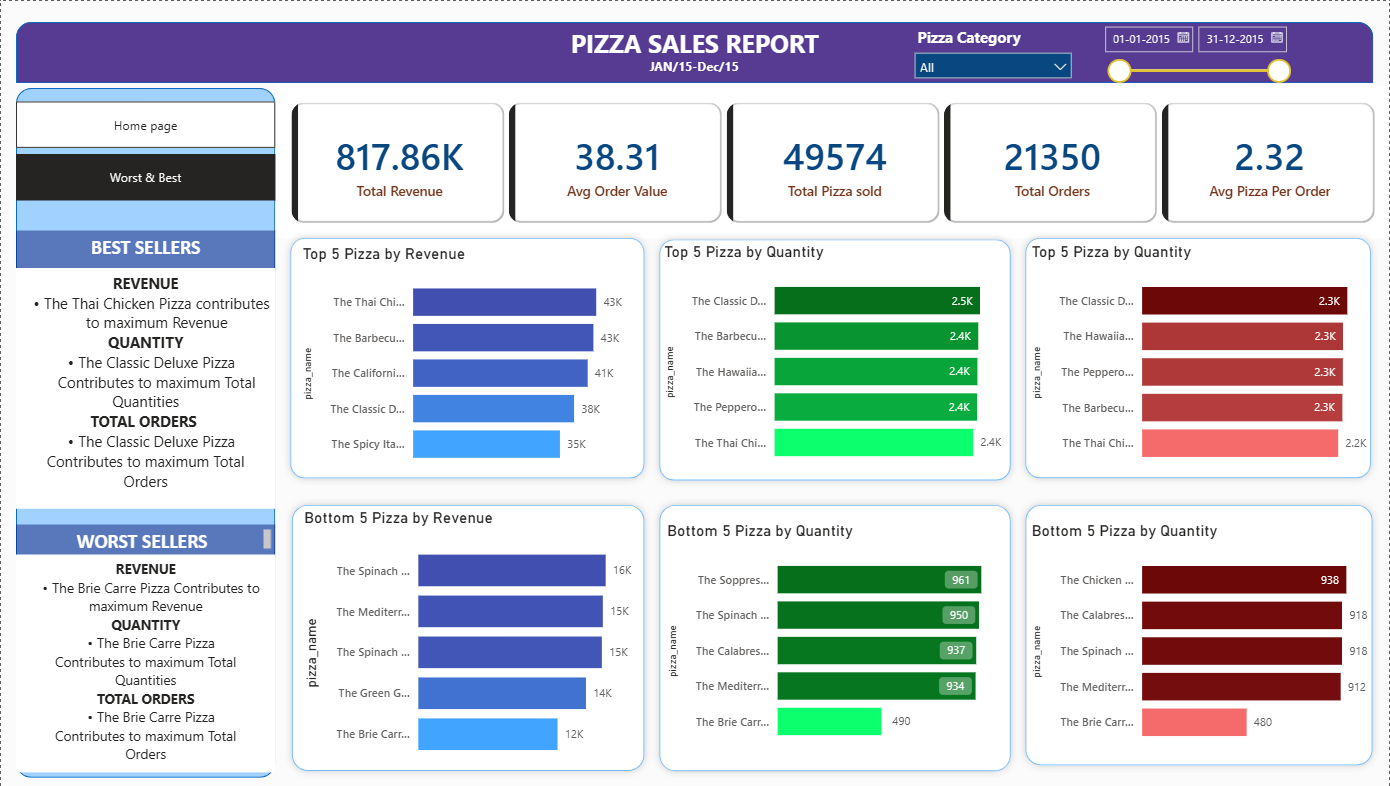

What the dashboard file says about the page in this screenshot:
{"tool":"powerbi","page":{"name":"Worst & Best","canvas":[1500,850],"ordinal":1},"visuals":[{"type":"cardVisual","fields":{"Data":["pizza_sales.total_revenue","pizza_sales.average_order_value","pizza_sales.total_pizza_sold","pizza_sales.total_orders","pizza_sales.avg_pizza_per_order"]},"box":[296,92,1204,164],"z":0},{"type":"shape","box":[16,22,1466,66],"z":1000},{"type":"textbox","box":[604,22,290,48],"z":2000},{"type":"textbox","box":[695.8,55,107.5,35.8],"z":3000},{"type":"shape","box":[305,248.3,398.3,275.8],"z":4000},{"type":"shape","box":[16.7,93.3,280,745],"z":14000},{"type":"textbox","box":[16.7,248.3,280,41.7],"z":15000},{"type":"textbox","box":[16.7,288.3,280,260],"z":16000},{"type":"textbox","box":[16.7,565,280,33.3],"z":17000},{"type":"textbox","box":[16.7,598.3,280,235],"z":18000},{"type":"slicer","fields":{"Values":["pizza_sales.pizza_category"]},"box":[976.9,22.7,189.6,64.8],"z":19000},{"type":"slicer","fields":{"Values":["pizza_sales.order_date"]},"box":[1179.4,17.8,222,74.5],"z":20000},{"type":"shape","box":[703.6,249.1,395.5,276.4],"z":20001},{"type":"shape","box":[1099.1,248.2,389.1,275.5],"z":20002},{"type":"shape","box":[306.7,536.7,396.7,303.3],"z":20003},{"type":"shape","box":[703.6,536.4,395.5,303.6],"z":20004},{"type":"shape","box":[1099.1,536.4,390.9,297.3],"z":20005},{"type":"barChart","title":"Top 5 Pizza by Revenue","fields":{"Category":["pizza_sales.pizza_name"],"Y":["pizza_sales.Total Revenue"]},"box":[321,262,375,252],"z":20006},{"type":"barChart","title":"Bottom 5 Pizza by Revenue","fields":{"Category":["pizza_sales.pizza_name"],"Y":["pizza_sales.Total Revenue"]},"box":[321.7,548.3,375,285],"z":20007},{"type":"barChart","title":"Top 5 Pizza by Quantity","fields":{"Category":["pizza_sales.pizza_name"],"Y":["pizza_sales.Total Pizza sold"]},"box":[710.9,260.9,374.5,251.8],"z":20008},{"type":"barChart","title":"Bottom 5 Pizza by Quantity","fields":{"Category":["pizza_sales.pizza_name"],"Y":["pizza_sales.Total Pizza sold"]},"box":[714.5,561.8,374.5,251.8],"z":20009},{"type":"barChart","title":"Top 5 Pizza by Quantity","fields":{"Category":["pizza_sales.pizza_name"],"Y":["pizza_sales.Total Orders"]},"box":[1108.2,260.9,375.5,252.7],"z":20010},{"type":"barChart","title":"Bottom 5 Pizza by Quantity","fields":{"Category":["pizza_sales.pizza_name"],"Y":["pizza_sales.Total Orders"]},"box":[1108.6,561.4,375.7,252.9],"z":20011},{"type":"pageNavigator","box":[16.7,108.3,280,50],"z":20012},{"type":"pageNavigator","box":[16.7,165,280,50],"z":20013}]}

Visuals, with their boxes in screenshot pixels (x1, y1, x2, y2), scaled from the page's 1500x850 canvas onto the 1390x786 screenshot:
cardVisual - pizza_sales.total_revenue x pizza_sales.average_order_value: 274, 85, 1389, 237
shape: 15, 20, 1373, 81
textbox: 560, 20, 828, 65
textbox: 645, 51, 744, 84
shape: 283, 230, 652, 485
shape: 15, 86, 275, 775
textbox: 15, 230, 275, 268
textbox: 15, 267, 275, 507
textbox: 15, 522, 275, 553
textbox: 15, 553, 275, 771
slicer - pizza_sales.pizza_category: 905, 21, 1081, 81
slicer - pizza_sales.order_date: 1093, 16, 1299, 85
shape: 652, 230, 1018, 486
shape: 1018, 230, 1379, 484
shape: 284, 496, 652, 777
shape: 652, 496, 1018, 777
shape: 1018, 496, 1381, 771
"Top 5 Pizza by Revenue" barChart: 297, 242, 645, 475
"Bottom 5 Pizza by Revenue" barChart: 298, 507, 646, 771
"Top 5 Pizza by Quantity" barChart: 659, 241, 1006, 474
"Bottom 5 Pizza by Quantity" barChart: 662, 519, 1009, 752
"Top 5 Pizza by Quantity" barChart: 1027, 241, 1375, 475
"Bottom 5 Pizza by Quantity" barChart: 1027, 519, 1375, 753
pageNavigator: 15, 100, 275, 146
pageNavigator: 15, 153, 275, 199
